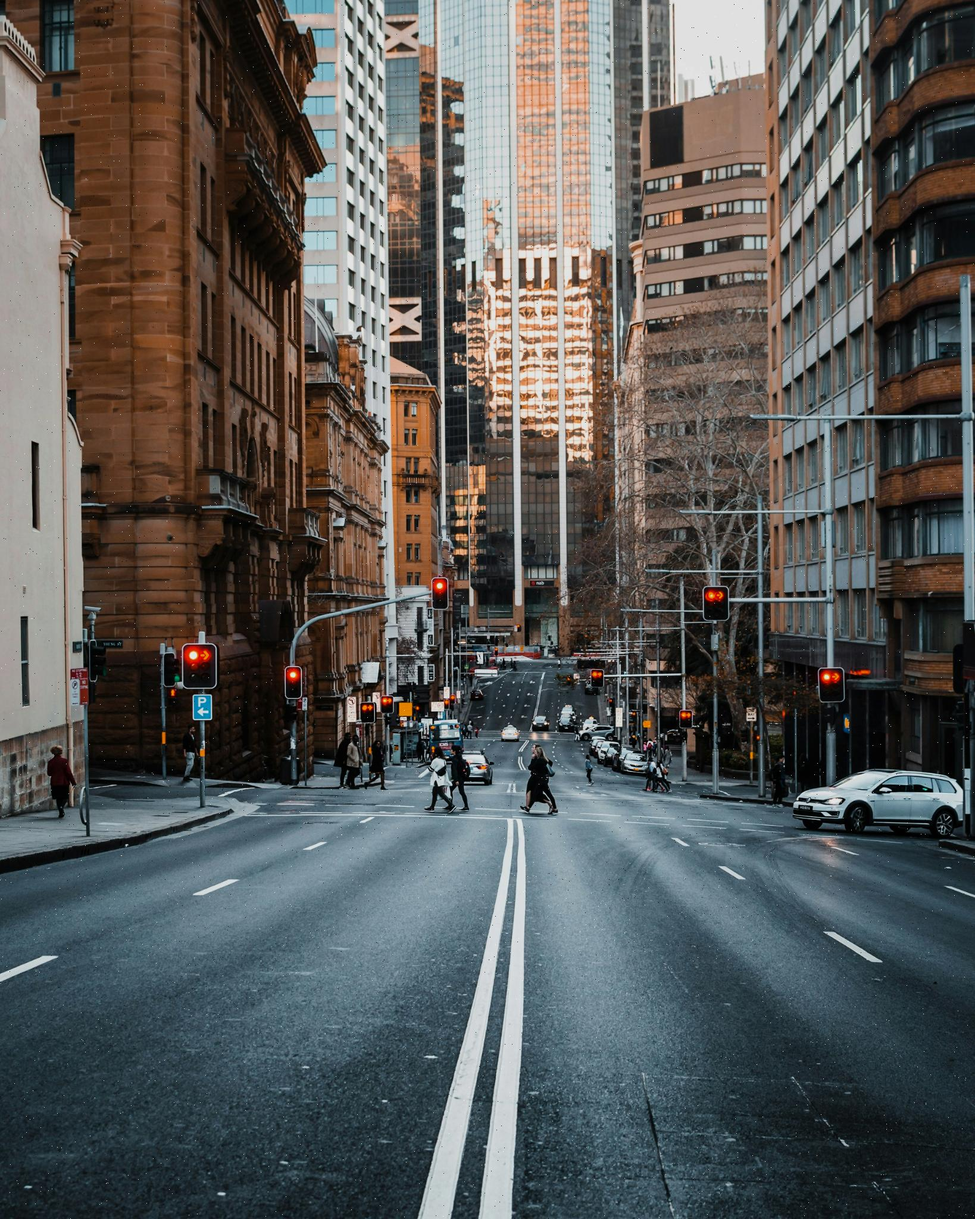car: (794, 771, 968, 840), (583, 728, 616, 763), (580, 720, 614, 752), (463, 750, 493, 782), (620, 743, 646, 773), (533, 716, 550, 736)
pedestrian: (523, 747, 558, 817), (48, 748, 76, 822), (427, 740, 453, 810), (437, 741, 468, 797), (337, 729, 361, 790), (180, 725, 199, 782), (657, 759, 671, 792), (643, 738, 655, 772)
